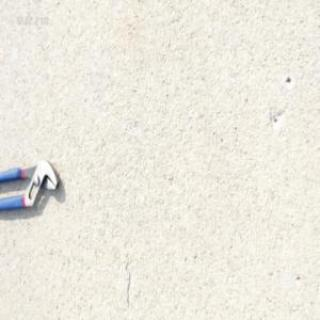Pliertrack_idkeyframe: (0, 157, 60, 213)
